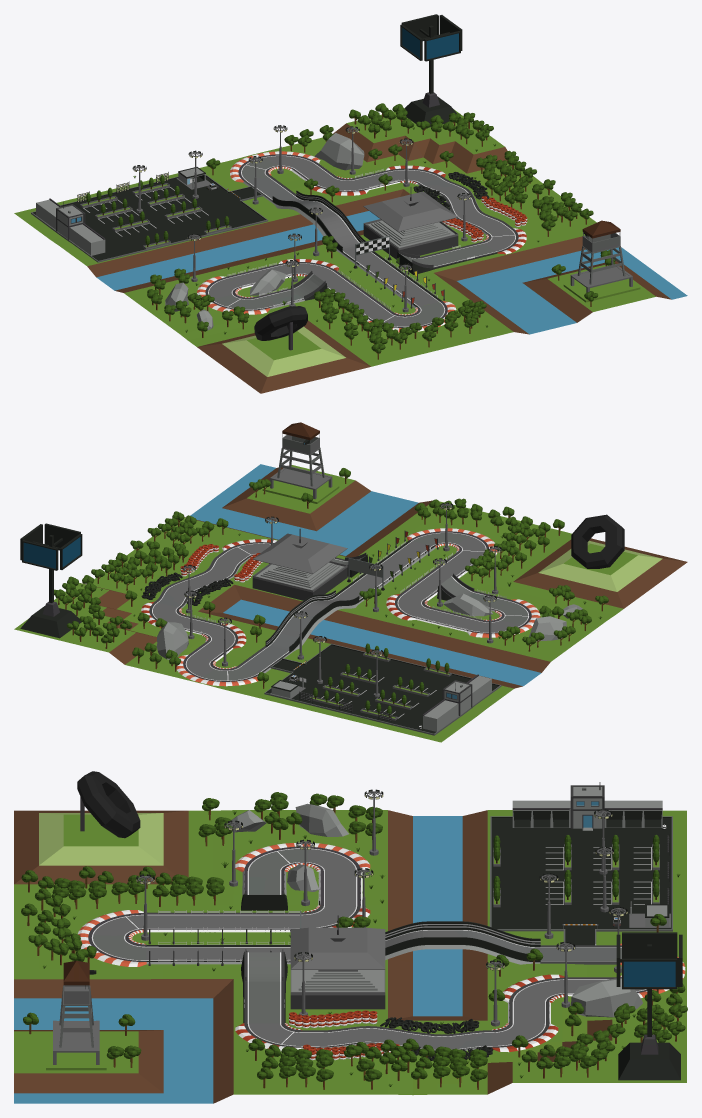
The model's file is race_track_decimated-compressed.glb.
3 views of the same model, one above another, from view 1: azimuth 30°, elevation 25°; view 2: azimuth 150°, elevation 25°; view 3: azimuth 270°, elevation 25° (orthographic). The views are drawn at different scales.
Parts seen in each view (by area): view 1: Earth, parking, bridge, tribune, tower001, tower, garages, crooked_road, road_180002, road_180001, springboard, big_wheel (+10 smaller); view 2: Earth, parking, bridge, tribune, tower001, tower, big_wheel, garages, crooked_road, road_180002, road_180001, road_180 (+11 smaller); view 3: Earth, parking, bridge, tribune, tower001, garages, tower, springboard, road002, crooked_road, road_180001, road_180 (+13 smaller).
Part boxes in pixels (<box>): Earth: <box>14,109,687,393</box>; parking: <box>31,174,268,262</box>; bridge: <box>243,175,441,307</box>; tribune: <box>363,187,458,259</box>; tower001: <box>400,14,462,127</box>; tower: <box>570,220,632,292</box>; garages: <box>36,198,105,255</box>; crooked_road: <box>417,177,512,234</box>; road_180002: <box>230,151,320,182</box>; road_180001: <box>197,276,269,314</box>; springboard: <box>396,242,497,274</box>; big_wheel: <box>254,306,307,350</box>; Earth: <box>14,464,687,742</box>; parking: <box>264,643,501,735</box>; bridge: <box>237,540,435,673</box>; tribune: <box>252,528,347,600</box>; tower001: <box>20,523,82,638</box>; tower: <box>270,422,332,499</box>; big_wheel: <box>571,514,624,568</box>; garages: <box>423,674,491,731</box>; crooked_road: <box>155,551,250,608</box>; road_180002: <box>176,654,259,686</box>; road_180001: <box>467,599,540,637</box>; road_180: <box>407,528,497,557</box>; Earth: <box>14,810,686,1103</box>; parking: <box>489,816,672,945</box>; bridge: <box>146,921,616,964</box>; tribune: <box>290,915,385,1009</box>; tower001: <box>616,932,682,1080</box>; garages: <box>512,782,662,830</box>; tower: <box>53,960,99,1064</box>; springboard: <box>241,949,287,1023</box>; road002: <box>147,912,302,932</box>; crooked_road: <box>302,1026,491,1050</box>; road_180001: <box>235,842,370,871</box>; road_180: <box>78,910,146,966</box>.
Size of the model in its own units: 44.74 by 10.66 by 44.81.
Materials: 5 (3 with a texture image).
